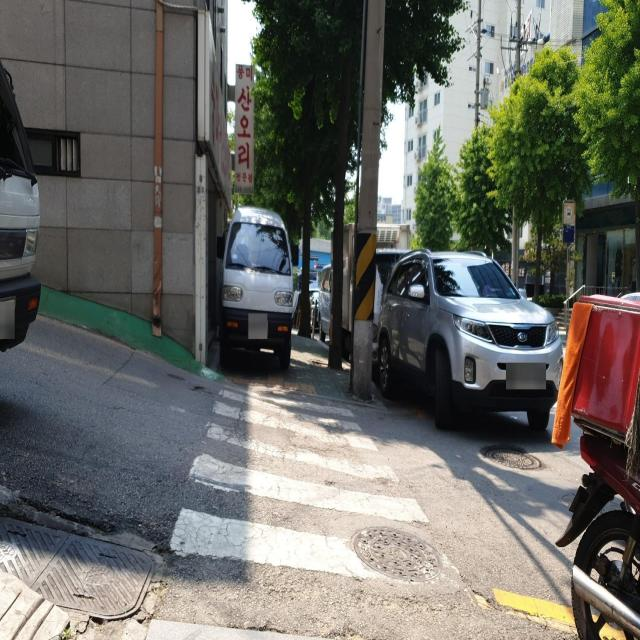횡단보도: (167, 382, 458, 585)
